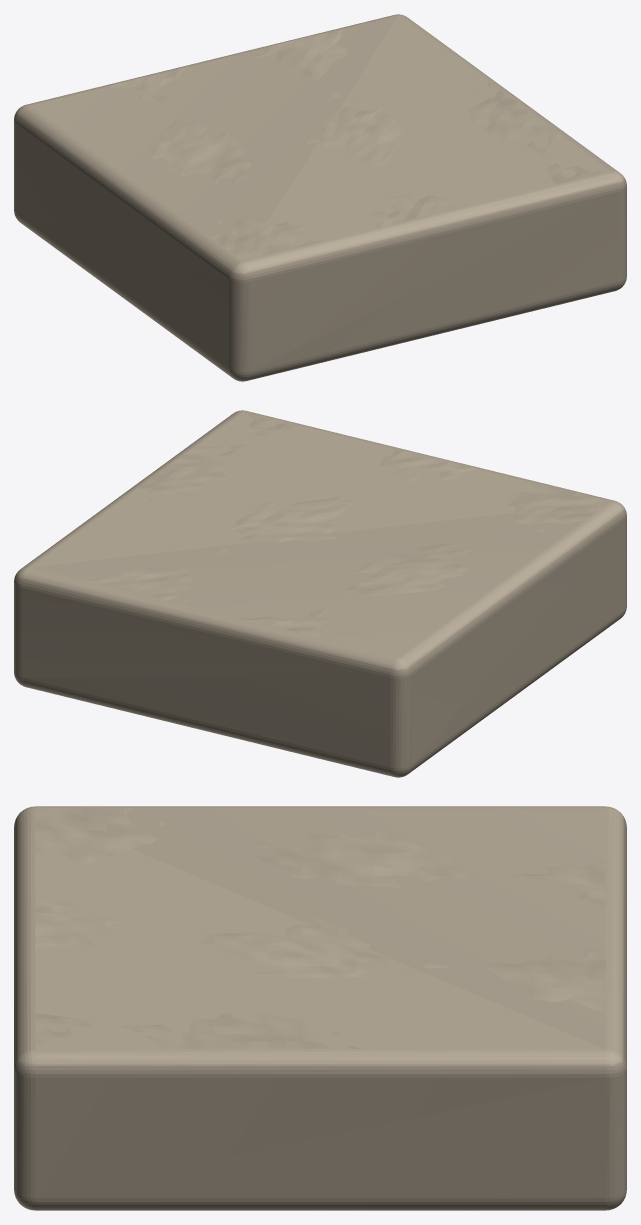
Rendered from stone-light.glb.
The picture shows the model from 3 angles, top to bottom: view 1: azimuth 30°, elevation 25°; view 2: azimuth 150°, elevation 25°; view 3: azimuth 270°, elevation 25°; orthographic projection. The views are drawn at different scales.
Parts seen in each view (by area): view 1: Single_stone_tile_mesh; view 2: Single_stone_tile_mesh; view 3: Single_stone_tile_mesh.
Part boxes in pixels (x1,y1,x2,y2): Single_stone_tile_mesh: [14, 14, 626, 381]; Single_stone_tile_mesh: [14, 410, 626, 777]; Single_stone_tile_mesh: [14, 806, 626, 1210].
Bounding box in the file's own units: 0.978 × 0.2833 × 0.978.
